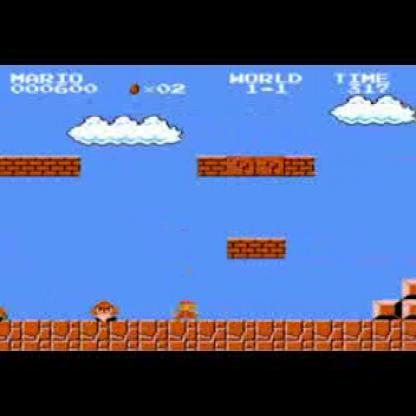Goomba: (93, 297, 119, 322)
